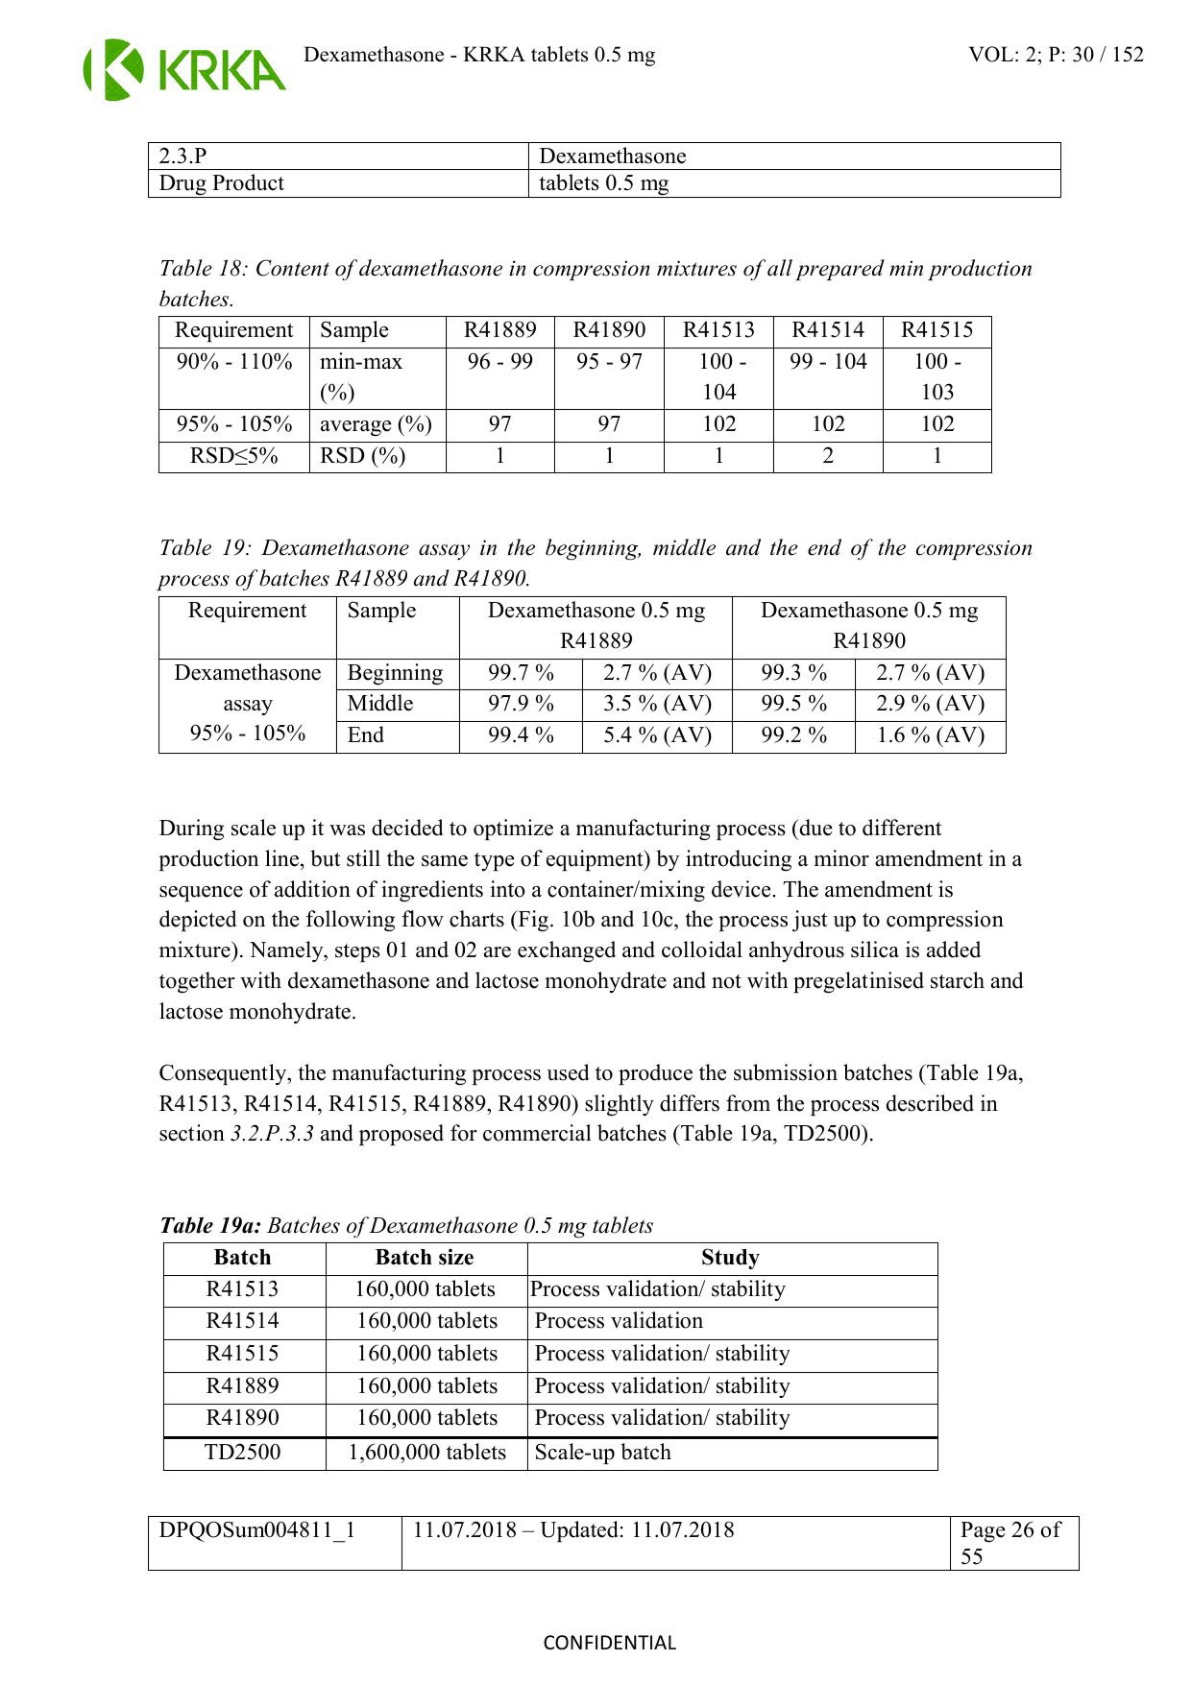full_lined: (161, 1240, 939, 1471), (157, 315, 993, 475), (147, 141, 1062, 199), (147, 1514, 1080, 1571)
merged_cells: (156, 594, 1008, 756)
